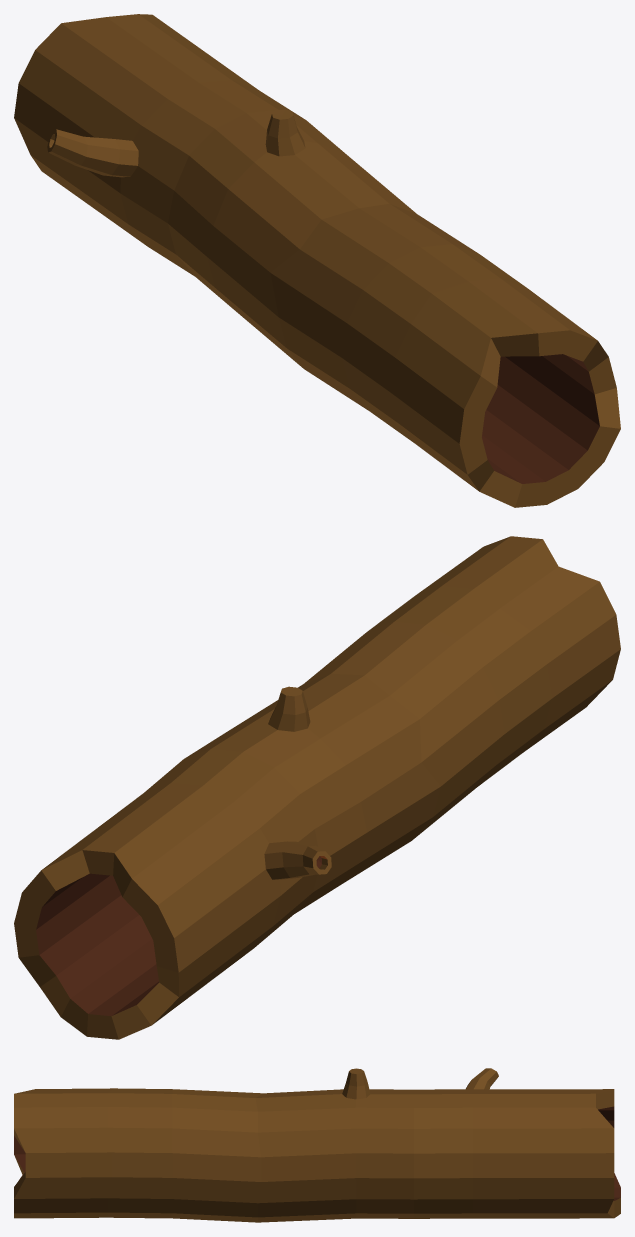
File: log_001.fbx
3 views of the same model, one above another, from view 1: azimuth 30°, elevation 25°; view 2: azimuth 150°, elevation 25°; view 3: azimuth 270°, elevation 25° (orthographic). The views are drawn at different scales.
Parts seen in each view (by area): view 1: log.001; view 2: log.001; view 3: log.001.
Boxes of the visible parts, left/top/right/bottom form: log.001: left=14, top=14, right=620, bottom=507; log.001: left=14, top=536, right=620, bottom=1039; log.001: left=14, top=1068, right=620, bottom=1222.
Bounding box in the file's own units: 252 × 224 × 857.
